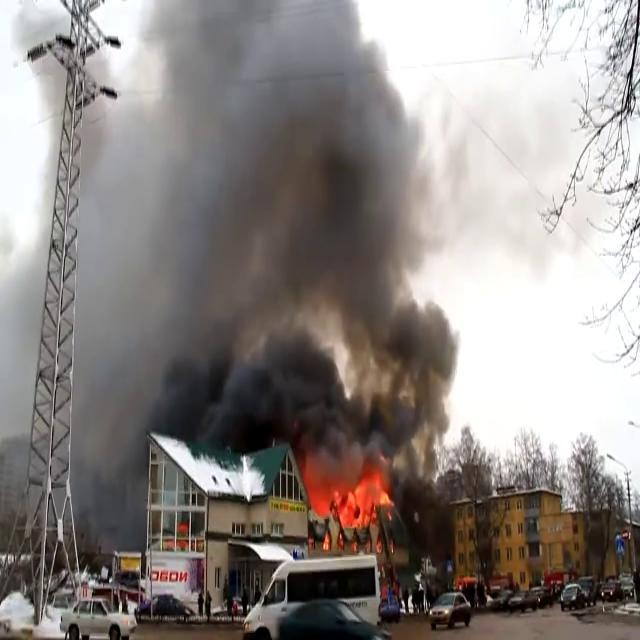Fire: (308, 466, 392, 540)
Smoke: (84, 1, 472, 472)
